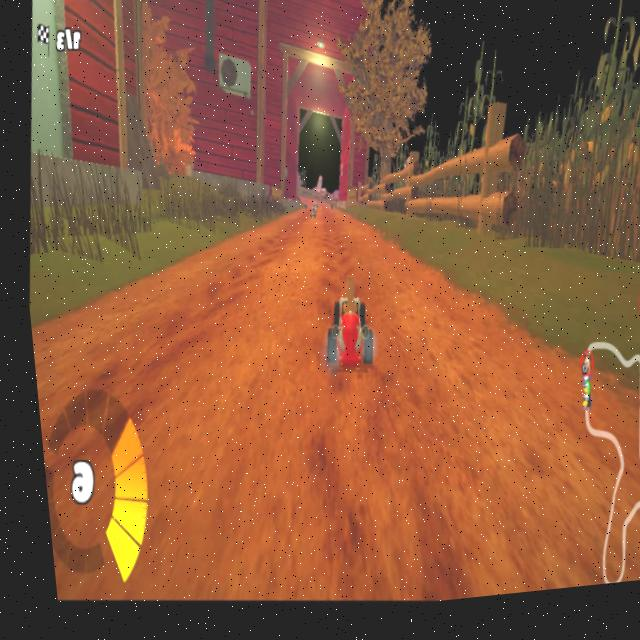enemy_kart: (303, 205, 315, 226)
nitro: (321, 205, 330, 217)
off_track: (343, 176, 608, 256)
player_kart: (309, 279, 376, 389)
track: (226, 220, 371, 292)
